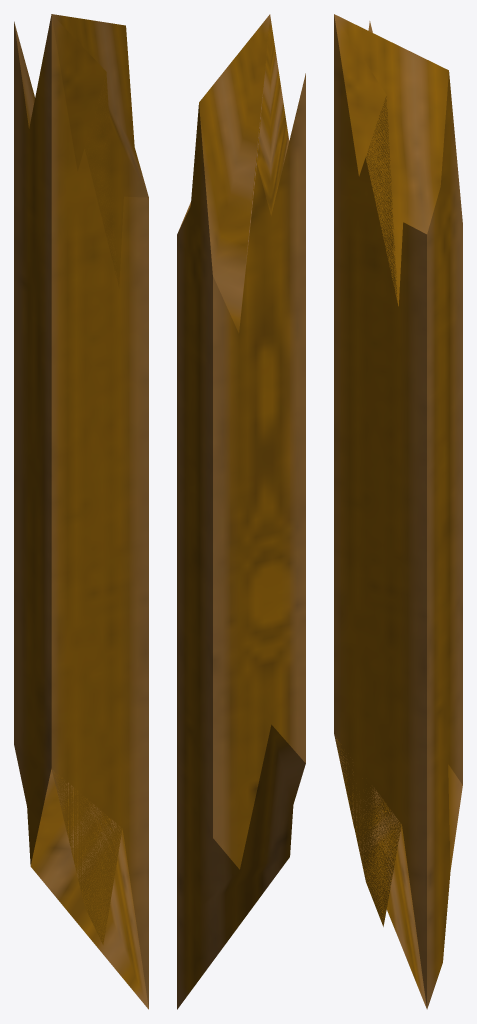
File: box_hahen_A.fbx
The picture shows the model from 3 angles, left to right: view 1: azimuth 30°, elevation 25°; view 2: azimuth 210°, elevation 25°; view 3: azimuth 330°, elevation 25°; orthographic projection. The views are drawn at different scales.
Visible parts, largest first — view 1: polySurface6; view 2: polySurface6; view 3: polySurface6.
Boxes of the visible parts, x1,y1,x2,y2 form: polySurface6: [14, 14, 148, 1009]; polySurface6: [177, 14, 305, 1009]; polySurface6: [334, 14, 462, 1009].
Size of the model in its own units: 7.5 by 75 by 5.
1 material, 1 textured.
